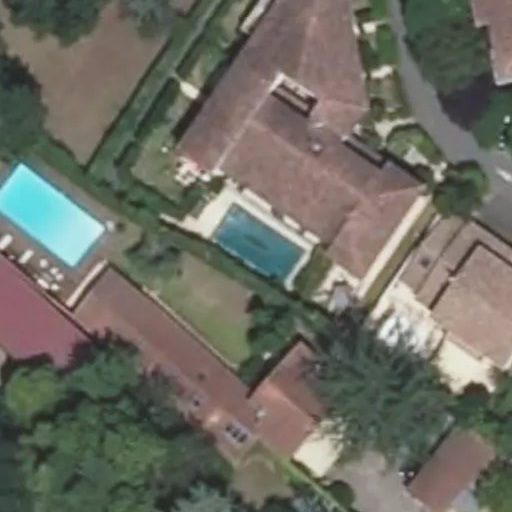pool: (210, 233, 301, 250)
